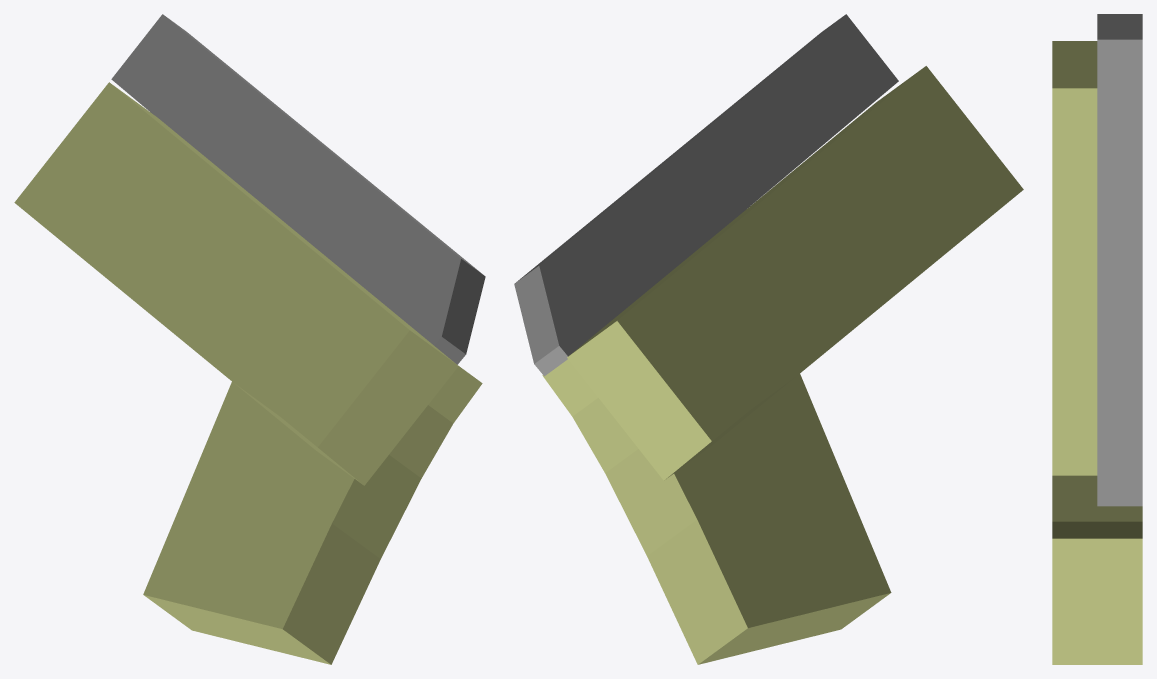
3 renders of one model, left to right at view 1: azimuth 30°, elevation 25°; view 2: azimuth 150°, elevation 25°; view 3: azimuth 270°, elevation 25°, orthographic. The views are drawn at different scales.
Parts seen in each view (by area): view 1: 0_1_0_0_0_1_3_0_0; view 2: 0_1_0_0_0_1_3_0_0; view 3: 0_1_0_0_0_1_3_0_0.
Boxes of the visible parts, x1,y1,x2,y2 form: 0_1_0_0_0_1_3_0_0: (14,14,485,664); 0_1_0_0_0_1_3_0_0: (514,14,1023,664); 0_1_0_0_0_1_3_0_0: (1052,14,1142,664).
Bounding box in the file's own units: 31.68 × 43.66 × 6.
